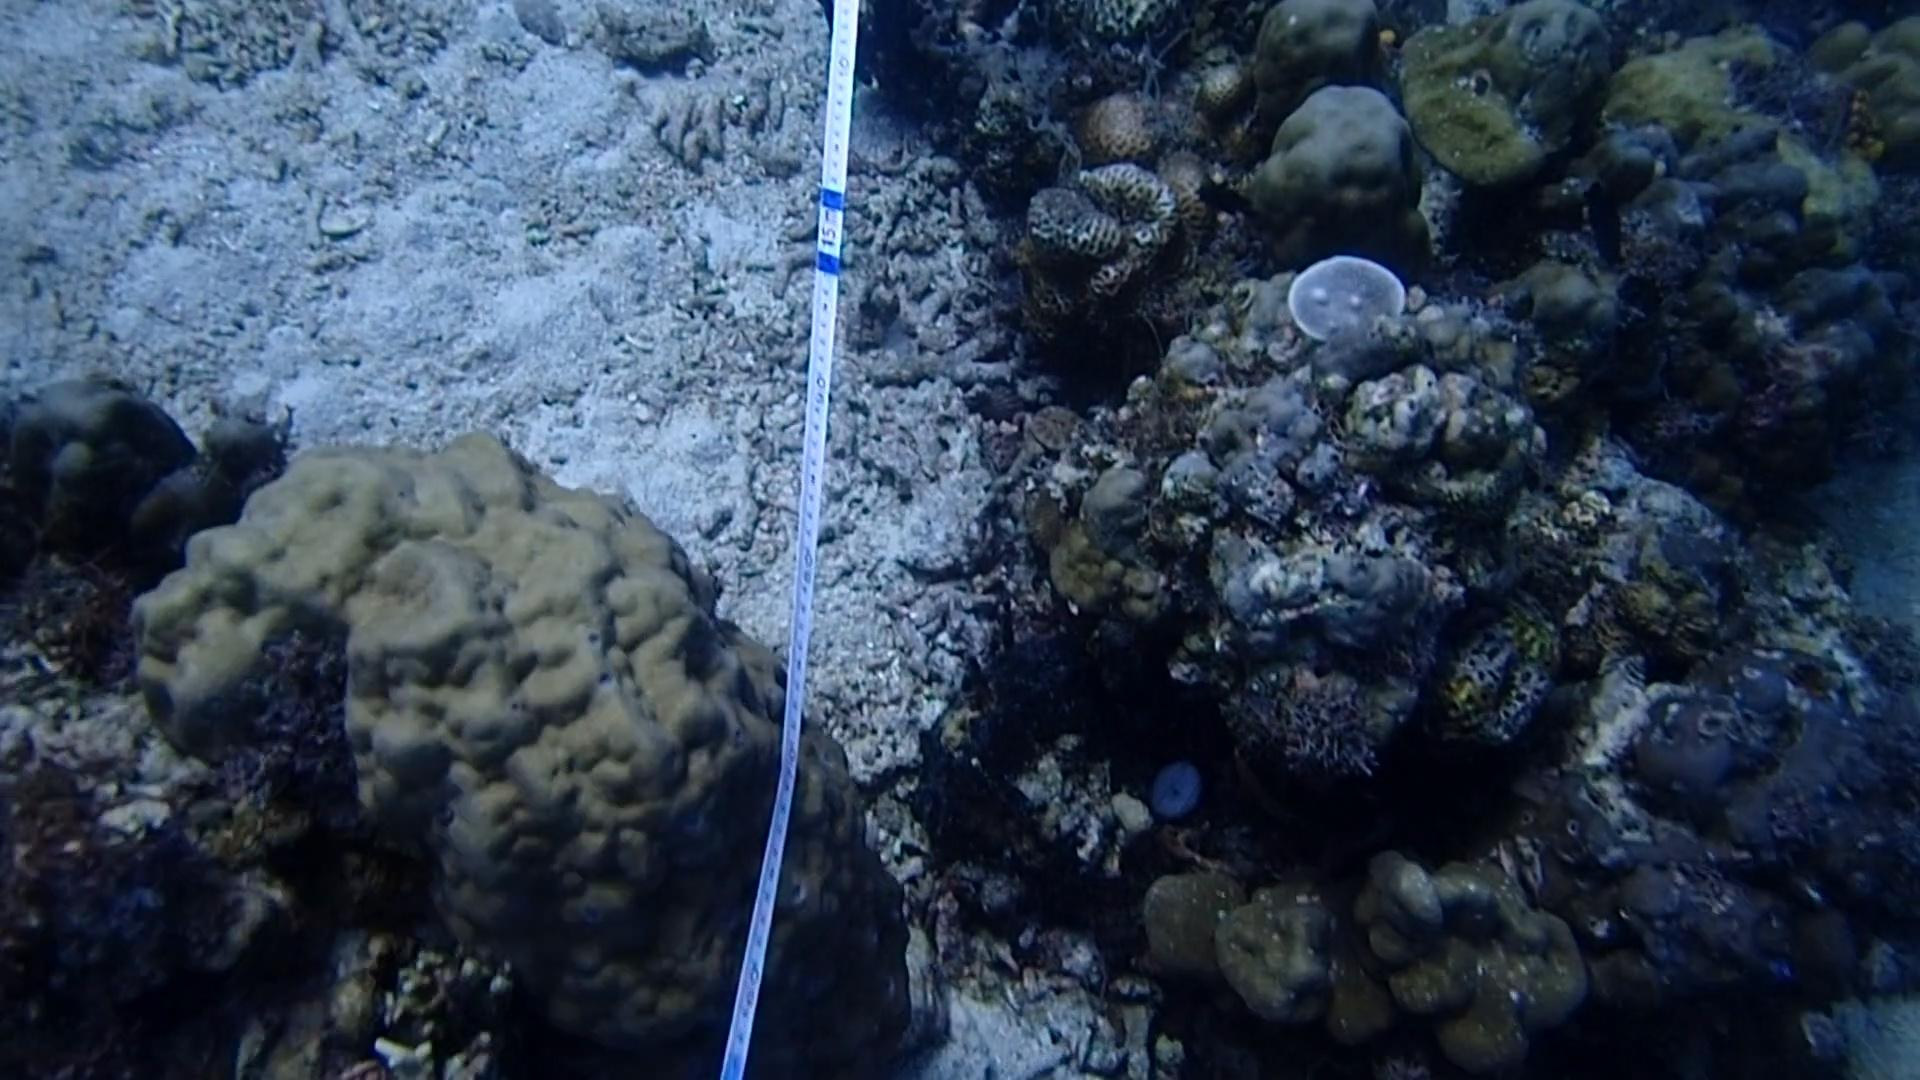Dark Fish: (1182, 166, 1249, 231)
